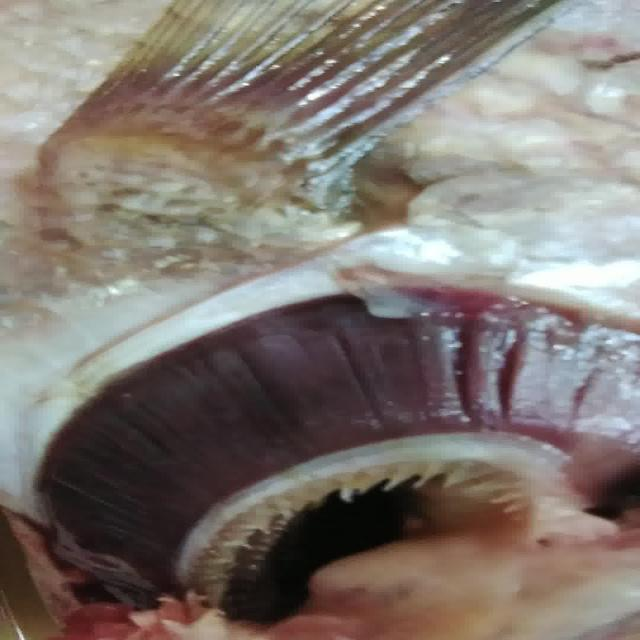Non-Fresh: (42, 268, 610, 598)
